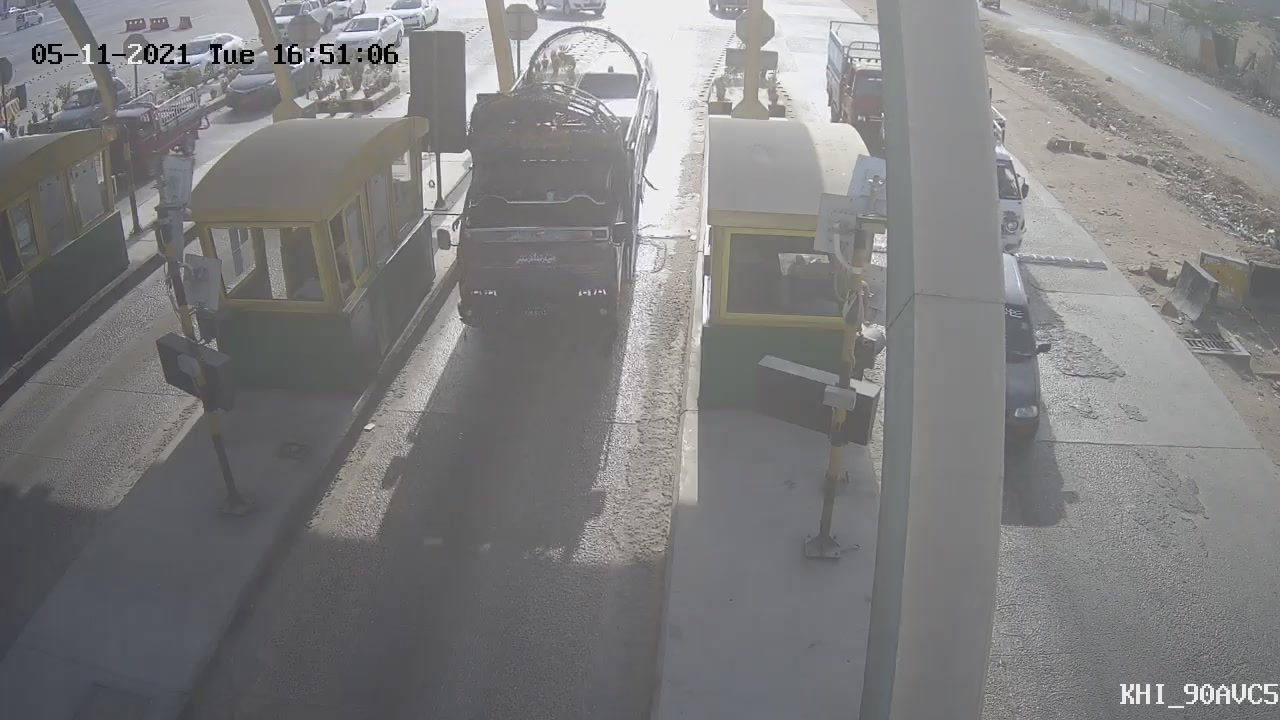F5: (409, 14, 682, 360)
